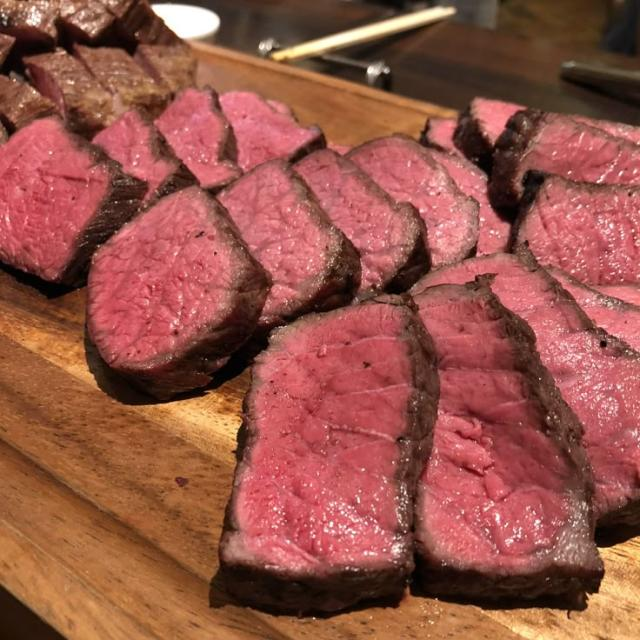beef steak: (220, 299, 438, 613), (414, 248, 639, 526), (414, 285, 603, 603), (87, 187, 269, 399), (0, 117, 146, 285), (219, 160, 360, 332), (294, 149, 430, 297), (347, 136, 479, 266), (489, 109, 639, 206), (514, 174, 639, 285), (93, 110, 197, 205), (155, 88, 241, 192), (220, 92, 326, 171), (431, 150, 511, 254), (24, 49, 113, 137), (546, 267, 639, 351), (74, 45, 170, 118), (454, 97, 525, 169), (134, 45, 197, 97), (0, 76, 56, 133), (0, 0, 59, 54), (420, 117, 461, 154), (594, 285, 639, 306)
